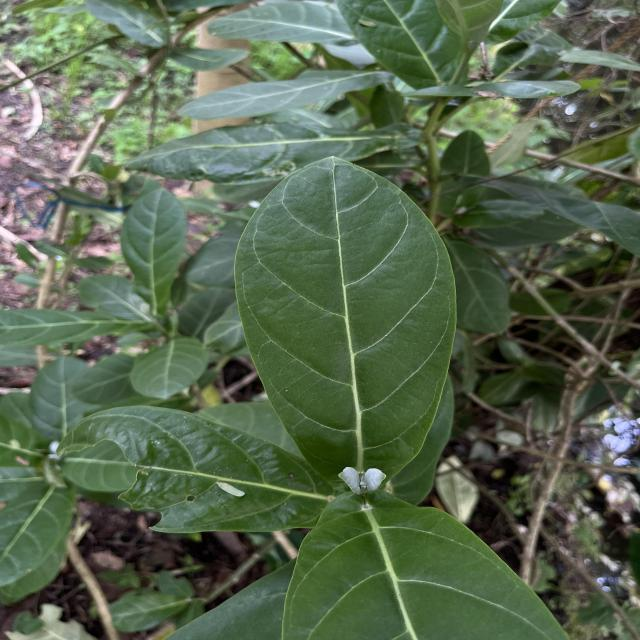Calotropis gigantea: (232, 154, 460, 489), (119, 186, 190, 294), (127, 334, 210, 402)
